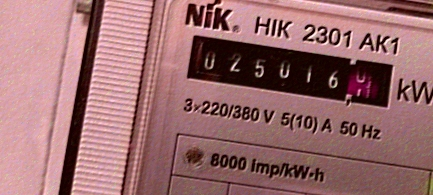0: (276, 56, 294, 81), (201, 48, 217, 72), (353, 63, 368, 85)
1: (301, 59, 316, 86), (353, 86, 362, 98)
2: (227, 49, 243, 74)
5: (251, 56, 266, 79)
6: (324, 66, 341, 93)
screen: (176, 23, 404, 118)
